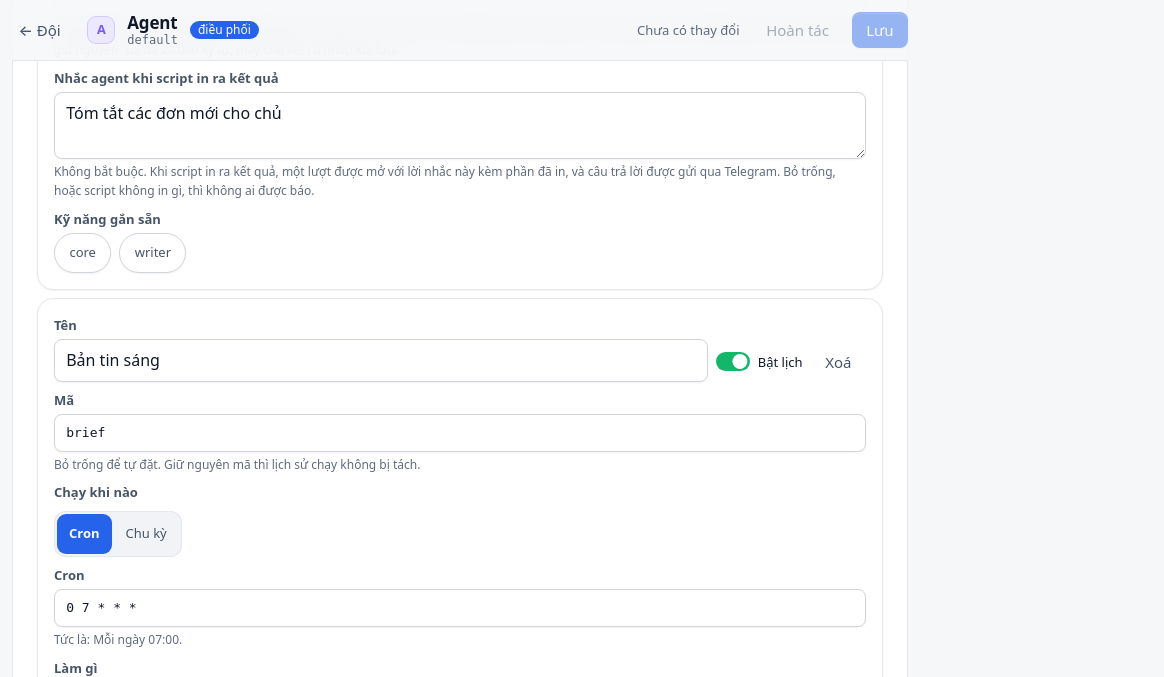
Test: a schedule that runs a script, in the agent editor › goes back as it came when another row is edited
(page scrolled)
Type " sớm" into the field labelled "Tên" at (381, 360), box left=54, top=339, right=708, bottom=382
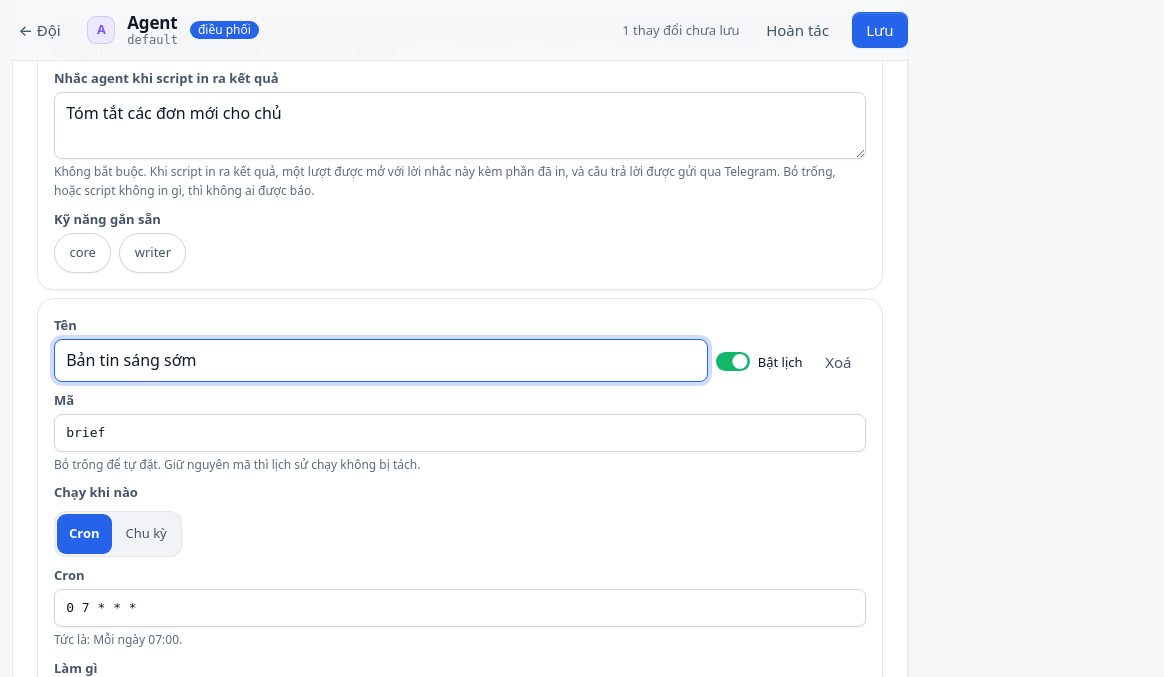
Click the button "Lưu" at (880, 30), box left=852, top=12, right=908, bottom=48
(page scrolled)
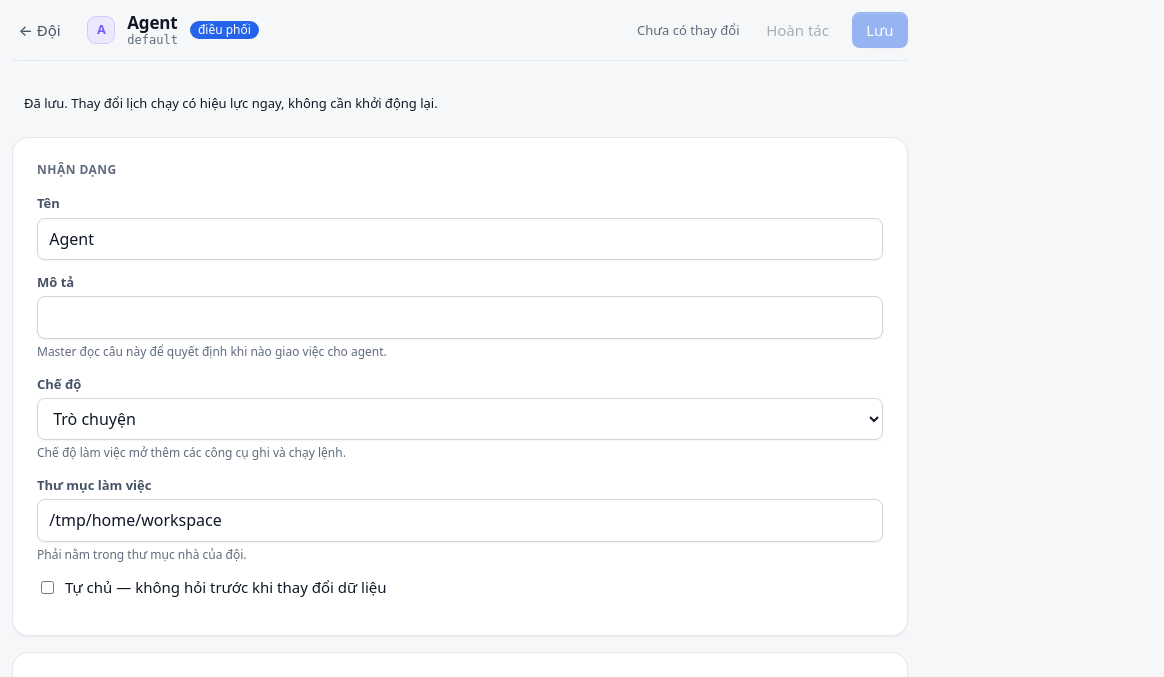
Expected: the message "Đã lưu. Thay đổi lịch chạy có hiệu lực ngay, không cần khởi động lại." is shown, left=24, top=94, right=438, bottom=112
